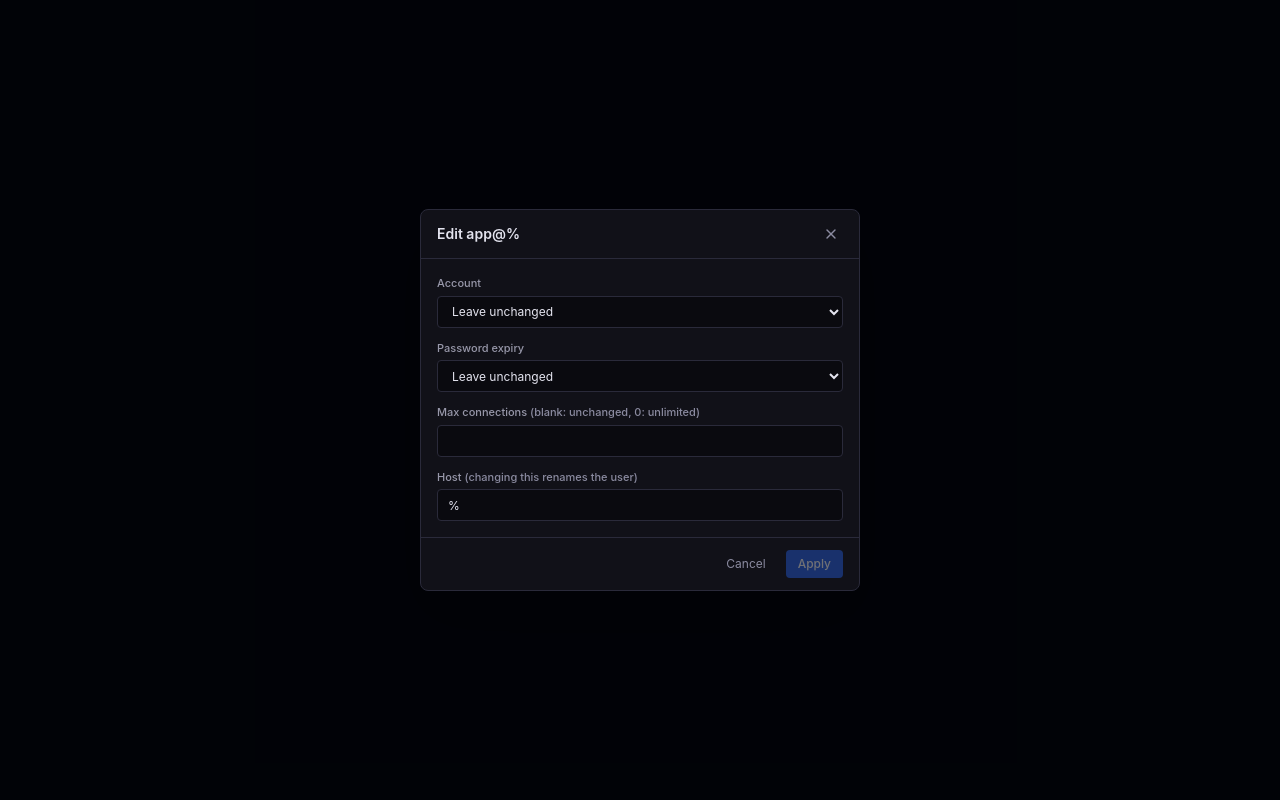
Test: EditUserDialog (#436) › says how much was applied when one statement fails
Step 1. Select "Lock" in the dropdown labelled "Account" → (640, 312), box x1=437 y1=296 x2=843 y2=328
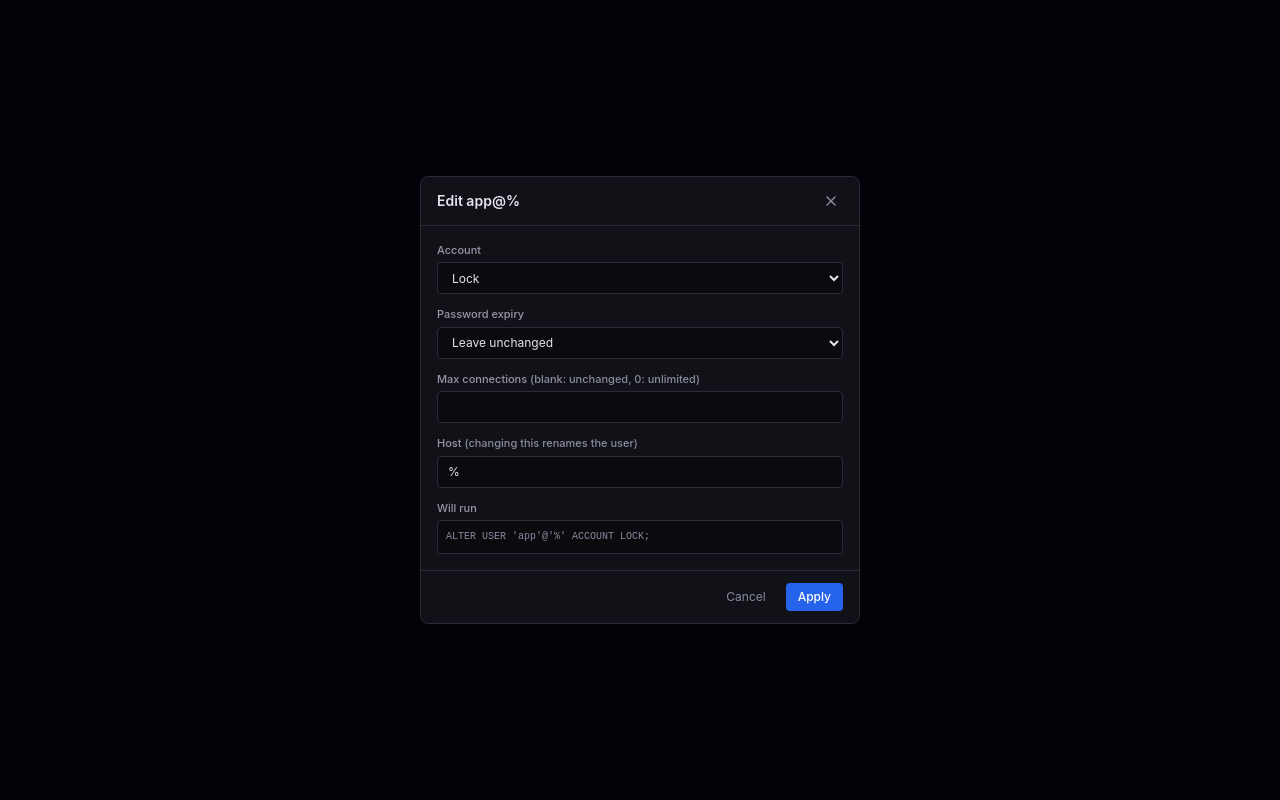
Step 2. Select "Never expire" in the dropdown labelled "Password expiry" → (640, 343), box x1=437 y1=327 x2=843 y2=359
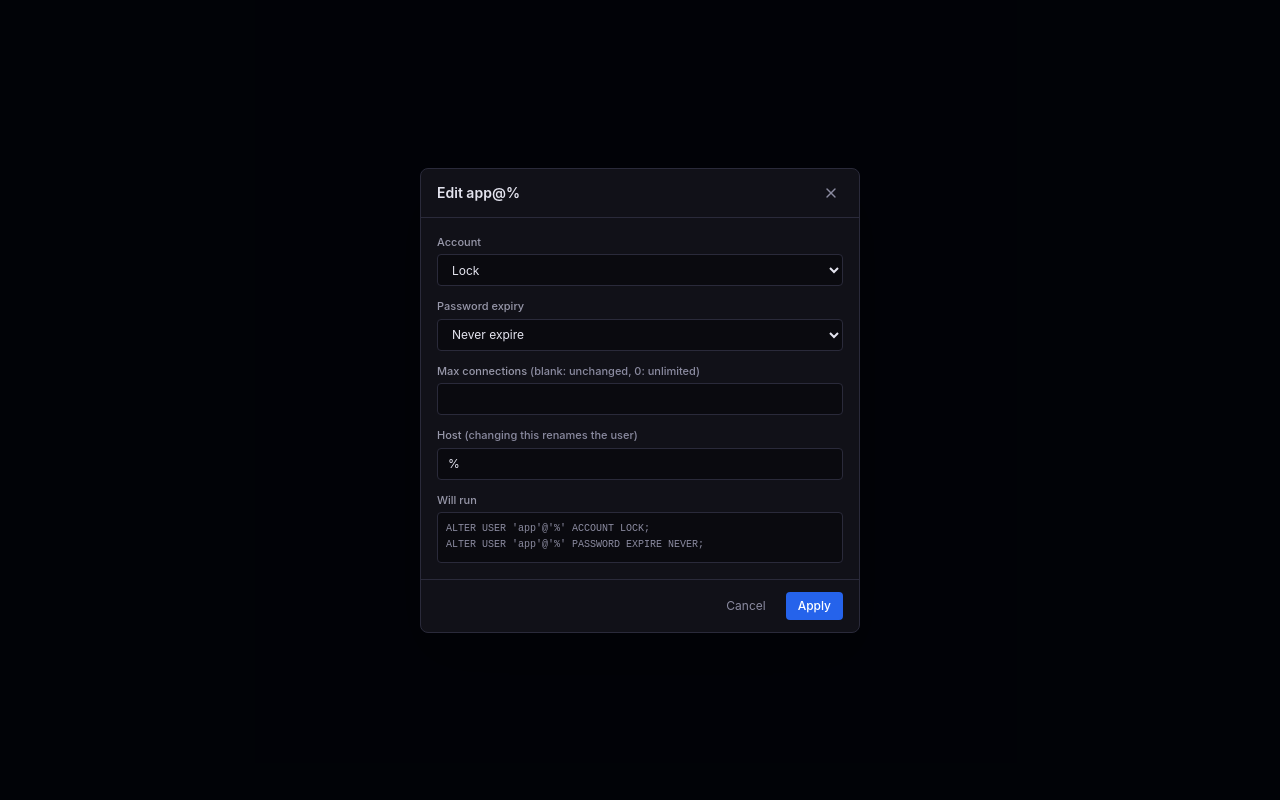
Step 3. Click the button "Apply" → click(814, 606), box x1=786 y1=592 x2=843 y2=620
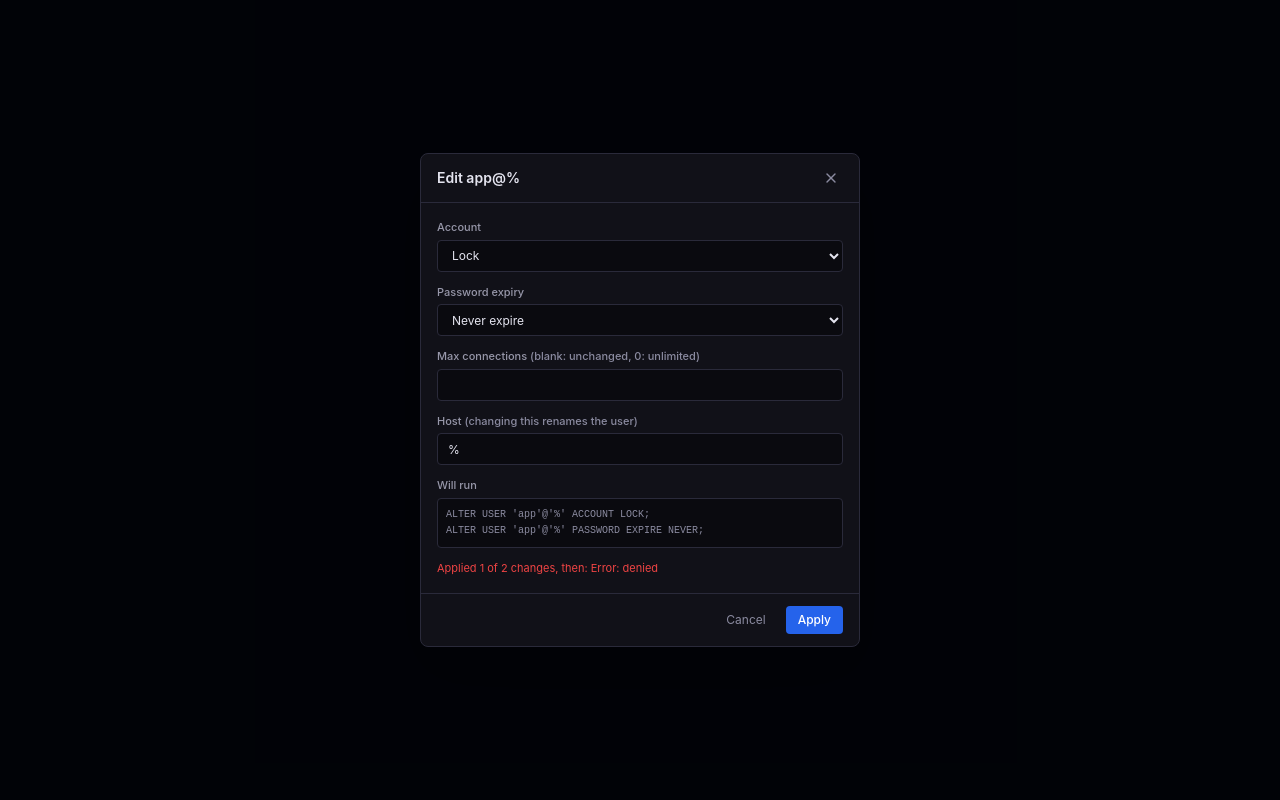
Expected: the message shows "Applied 1 of 2", x1=437 y1=561 x2=658 y2=575
